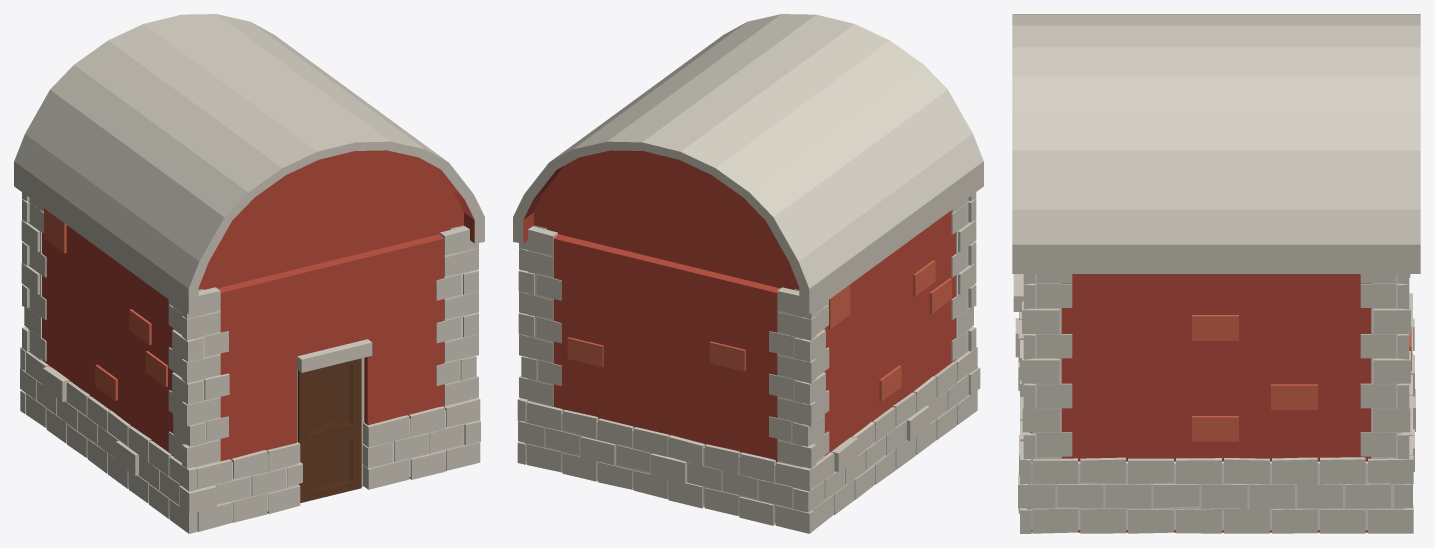
Rendered from q_1Story_RoundRoof.obj.
The picture shows the model from 3 angles, left to right: view 1: azimuth 30°, elevation 25°; view 2: azimuth 150°, elevation 25°; view 3: azimuth 270°, elevation 25°; orthographic projection. The views are drawn at different scales.
Parts seen in each view (by area): view 1: 1Story_RoundRoof_Cube.149; view 2: 1Story_RoundRoof_Cube.149; view 3: 1Story_RoundRoof_Cube.149.
Part boxes in pixels (box(x1,y1,x2,y2)): 1Story_RoundRoof_Cube.149: box(14, 14, 484, 533); 1Story_RoundRoof_Cube.149: box(513, 14, 983, 533); 1Story_RoundRoof_Cube.149: box(1012, 14, 1420, 533).
Size of the model in its own units: 2.09 by 2.38 by 2.13.
Materials: 1 (1 with a texture image).
